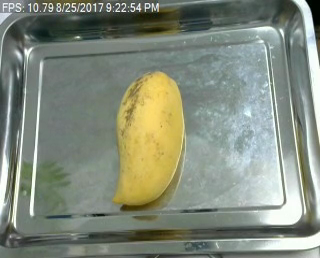Mango: (113, 72, 183, 206)
